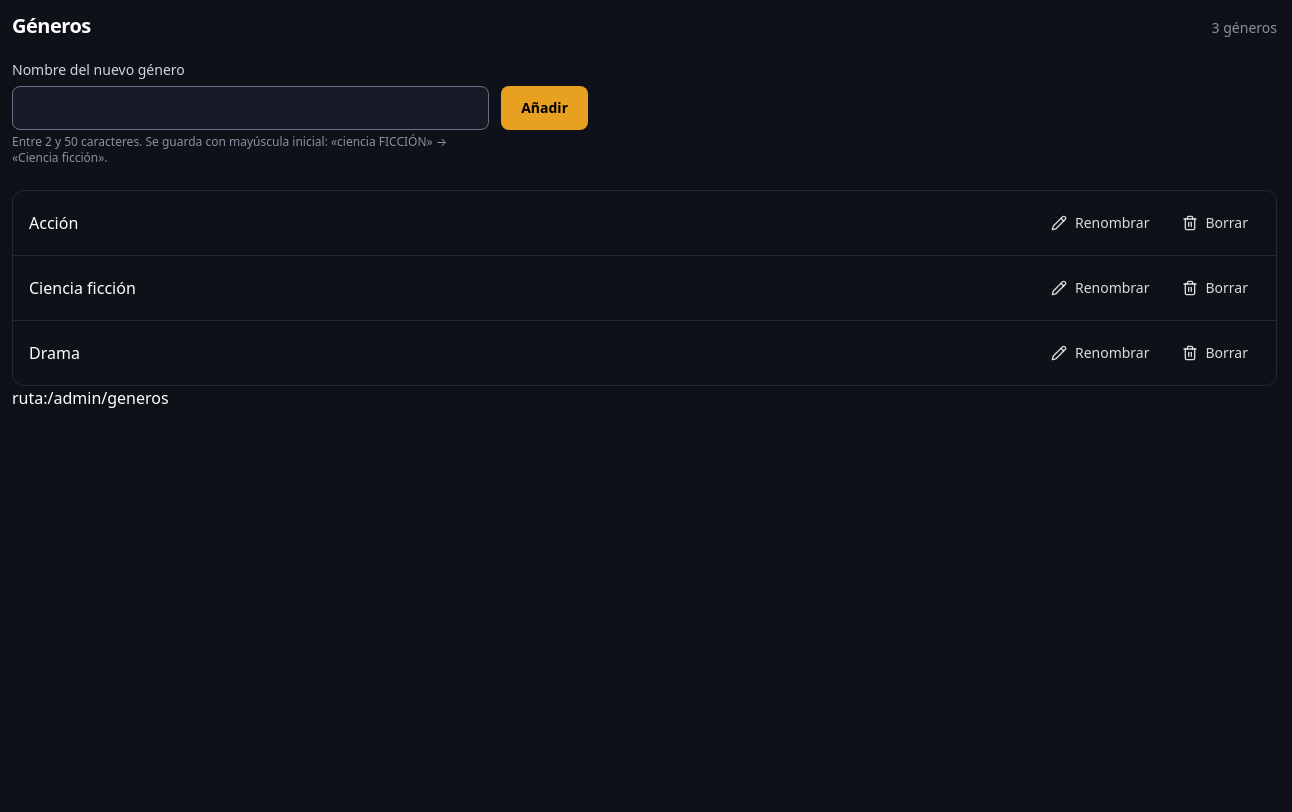
Test case: AdminGenresPage: renombrar en línea › 404: el género ya no existía; se informa y se recarga la lista
Expected: the list named "Géneros" is shown, top-left (12, 190), bottom-right (1277, 386)
Step 1. Click the button with aria-label "Renombrar Drama" → (1100, 353), box top-left (1039, 331), bottom-right (1162, 375)
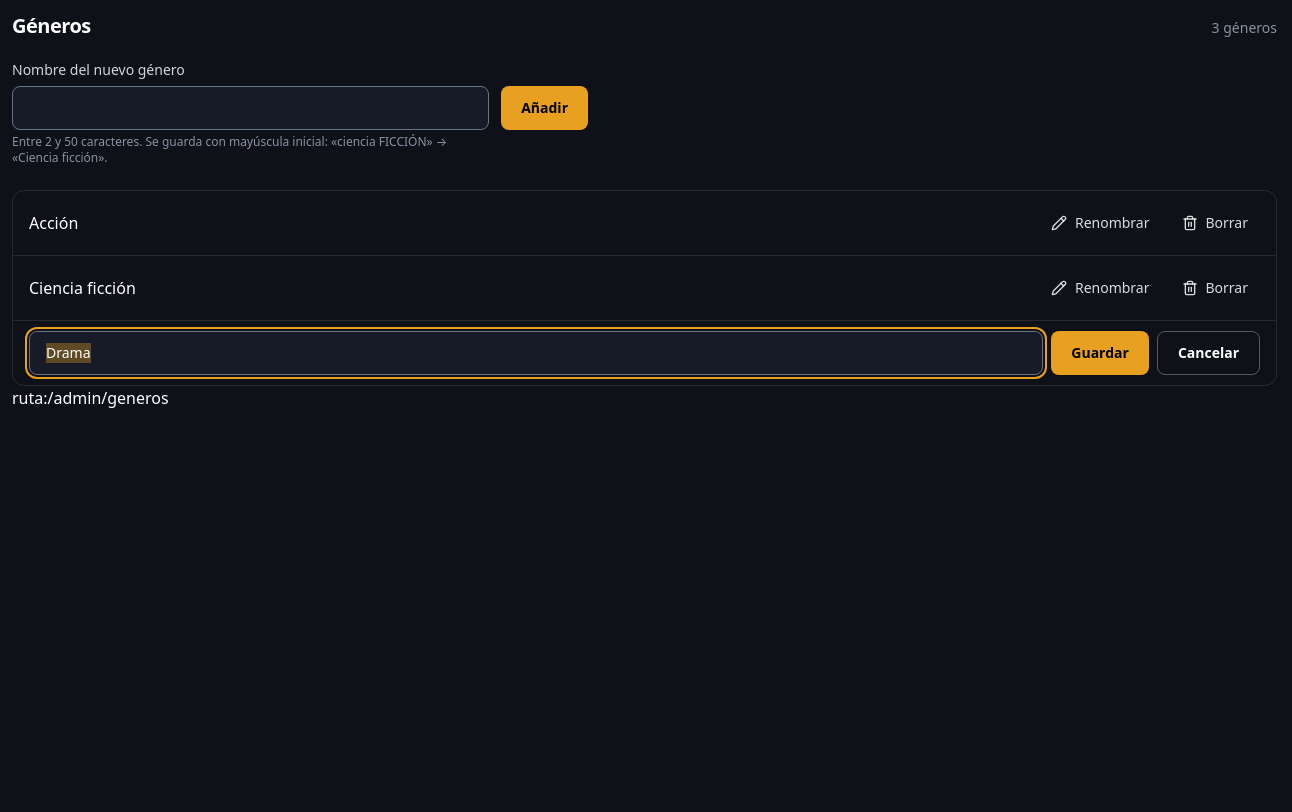
Step 2. Type keys "Nuevo"
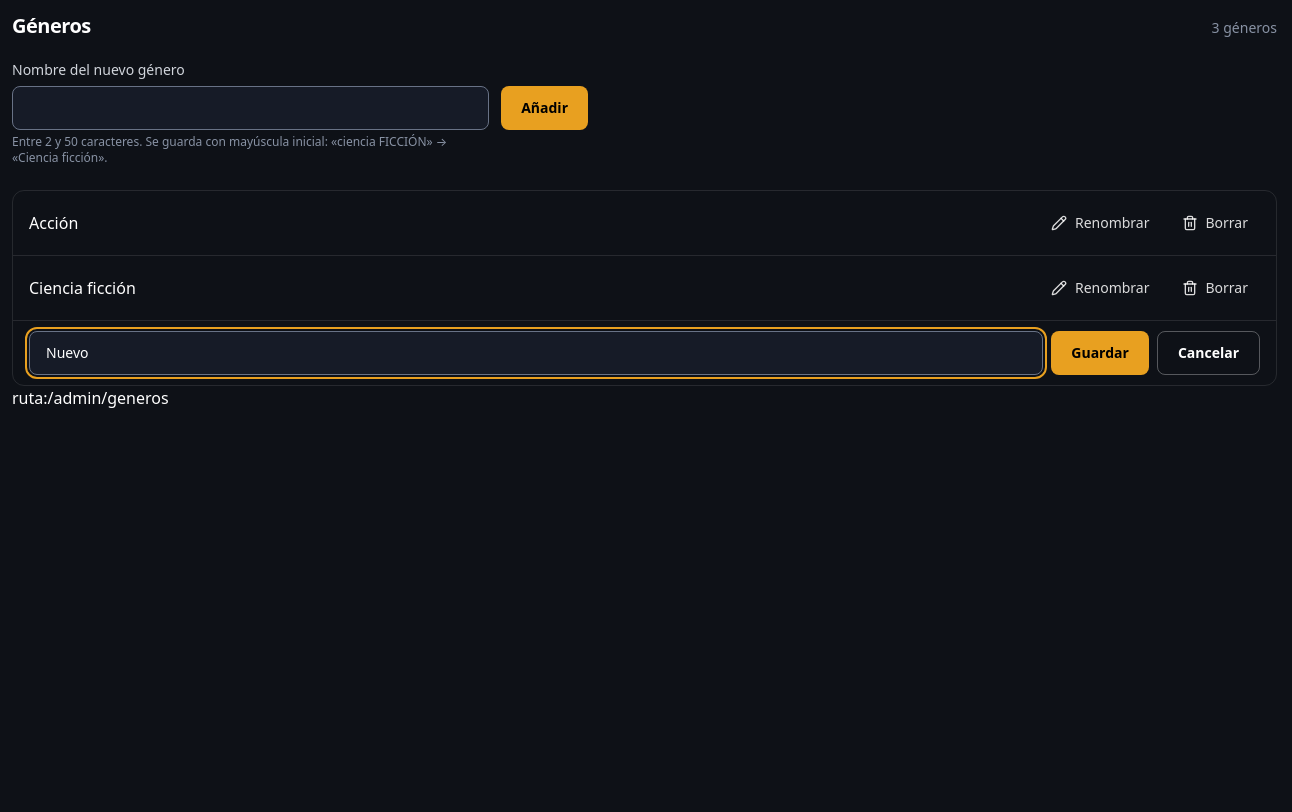
Step 3. Click the button "Guardar" → (1100, 353), box top-left (1051, 331), bottom-right (1149, 375)
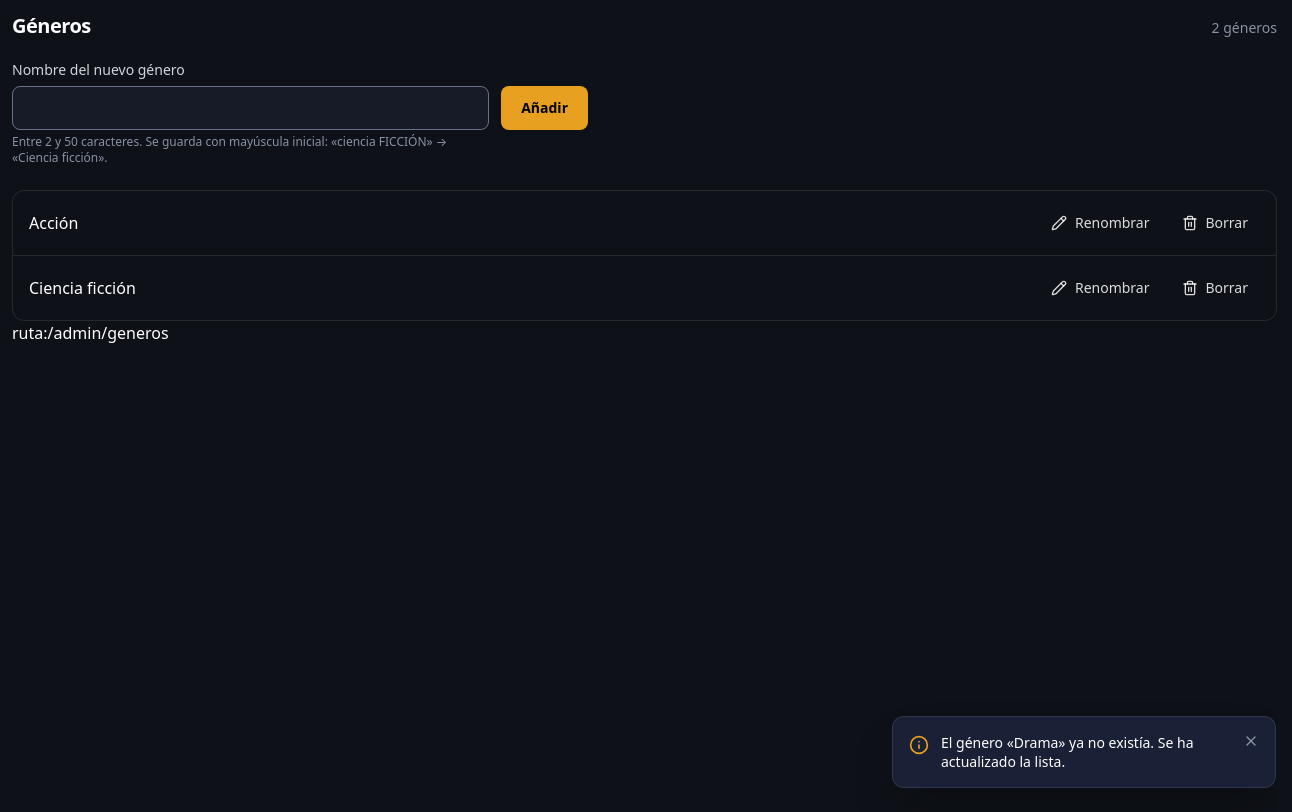
Result: the text "El género «Drama» ya no existía. Se ha actualizado la lista." is shown at top-left (941, 732), bottom-right (1231, 771)
